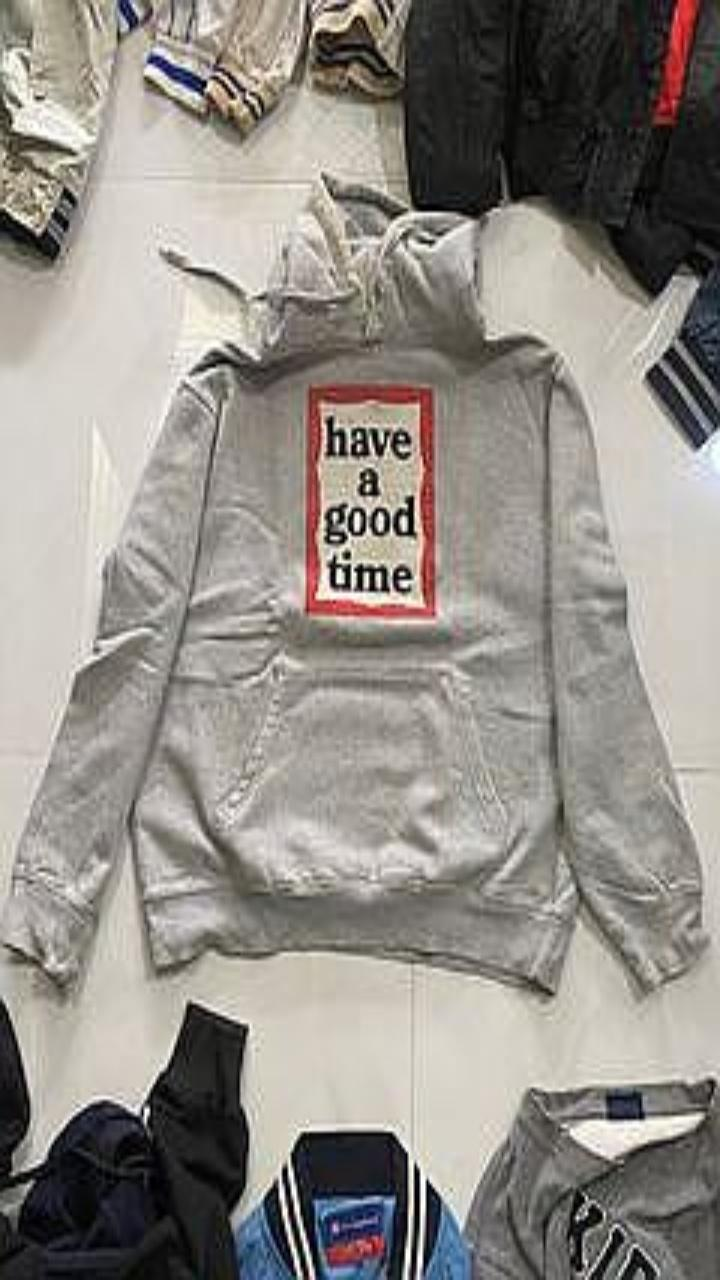Hoodie: (2, 180, 703, 990)
Sports_Jacket: (465, 1079, 719, 1279), (236, 1131, 469, 1279)
